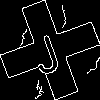J: (25, 25, 64, 77)
